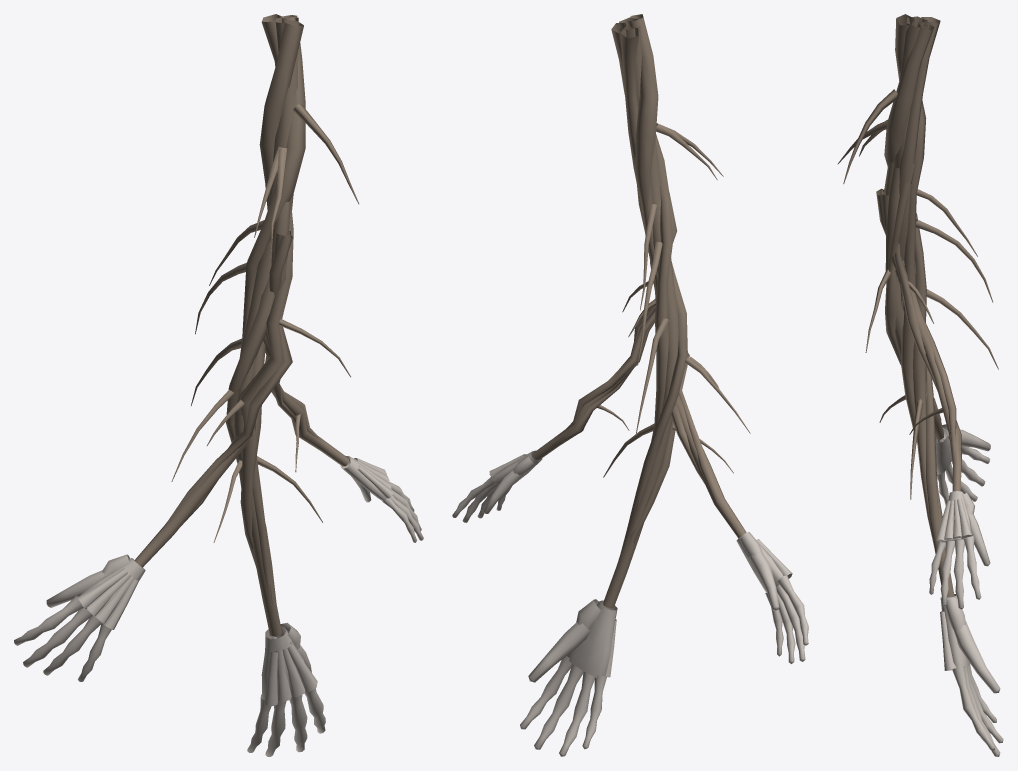
File: HandRoot2.fbx
3 views of the same model, side by side, from view 1: azimuth 30°, elevation 25°; view 2: azimuth 150°, elevation 25°; view 3: azimuth 270°, elevation 25° (orthographic). The views are drawn at different scales.
Parts seen in each view (by area): view 1: HandRoot2; view 2: HandRoot2; view 3: HandRoot2.
Part boxes in pixels (bbox=[...]): HandRoot2: bbox=[14, 14, 423, 756]; HandRoot2: bbox=[452, 14, 808, 756]; HandRoot2: bbox=[837, 14, 1003, 756].
Bounding box in the file's own units: 1.06 × 2 × 0.4211.
